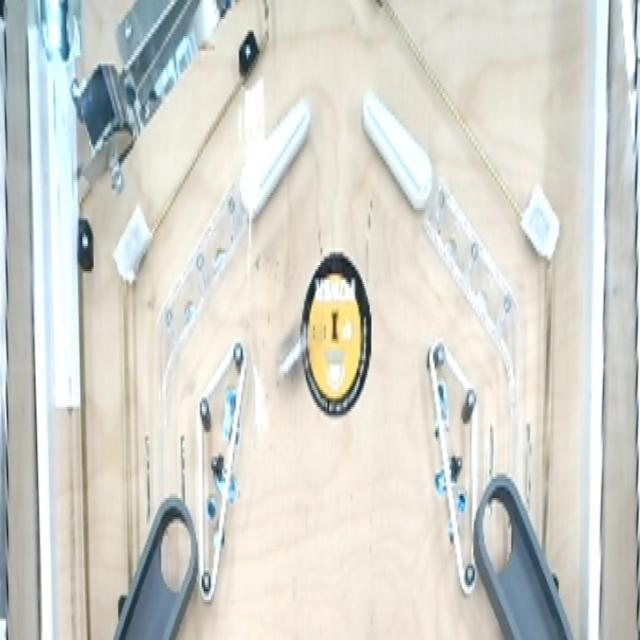ball: (276, 324, 312, 398)
flipper-left: (358, 83, 436, 214)
flipper-right: (237, 86, 314, 231)
